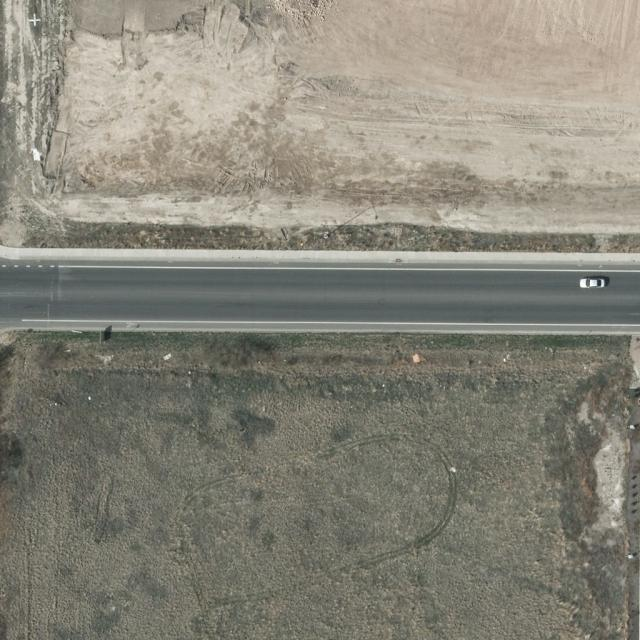vehicle: (580, 278, 606, 288)
